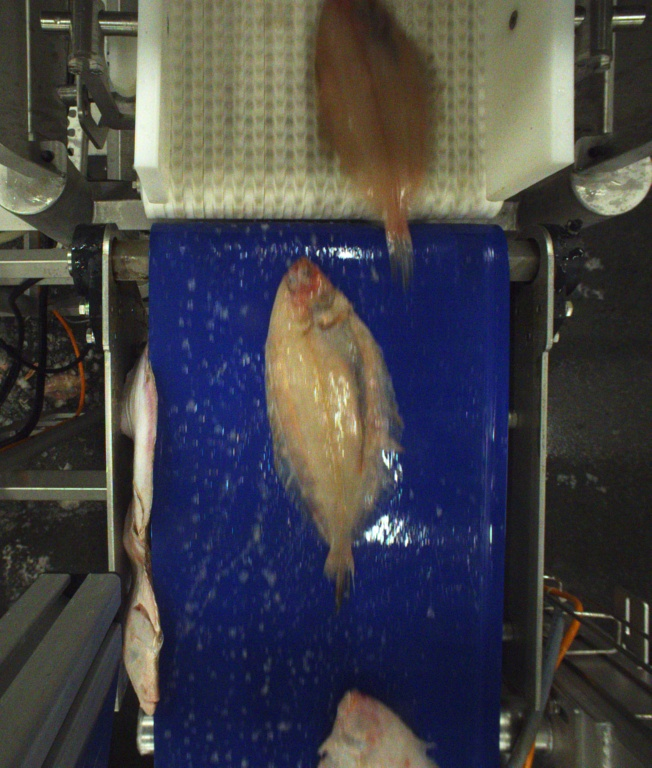WIT: (263, 258, 401, 607)
